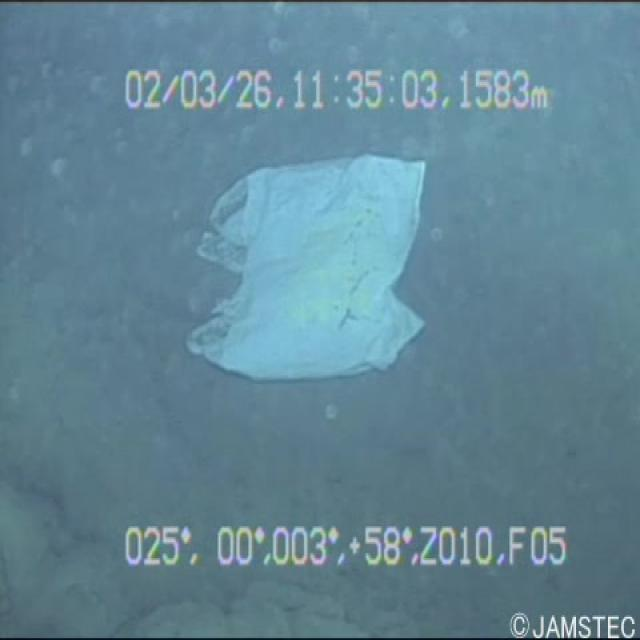plastic: (176, 151, 445, 413)
